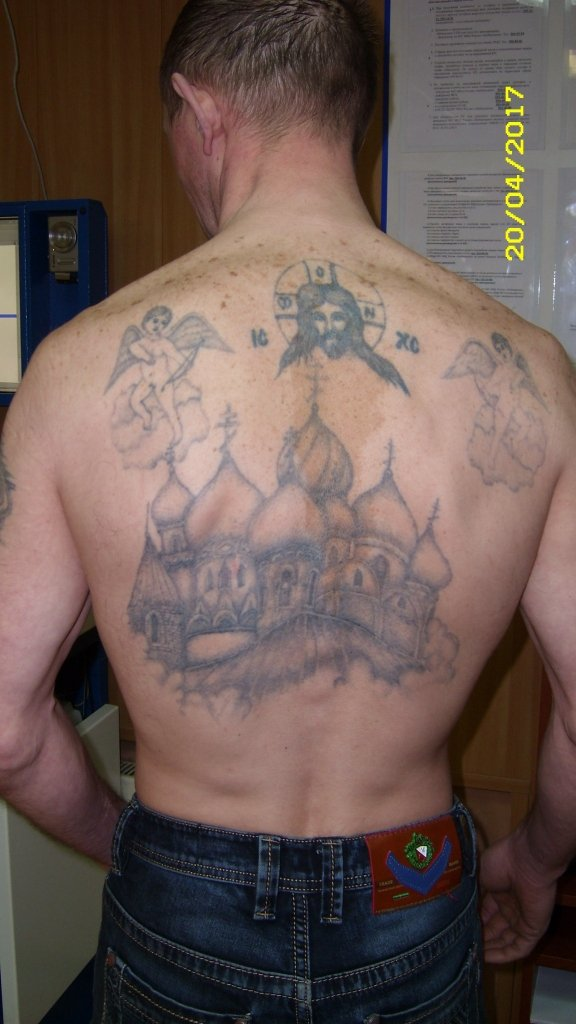tatu1_angel: (102, 304, 240, 468), (438, 324, 554, 495)
